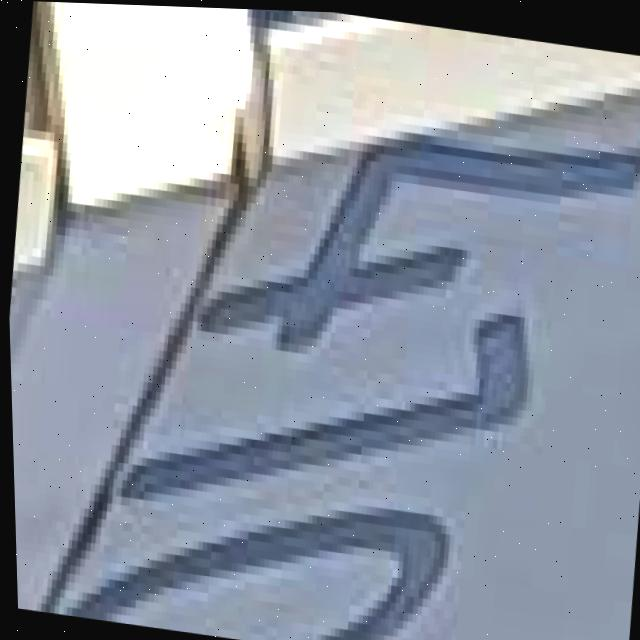character: (173, 62, 640, 441), (104, 245, 550, 567), (47, 453, 464, 640)
